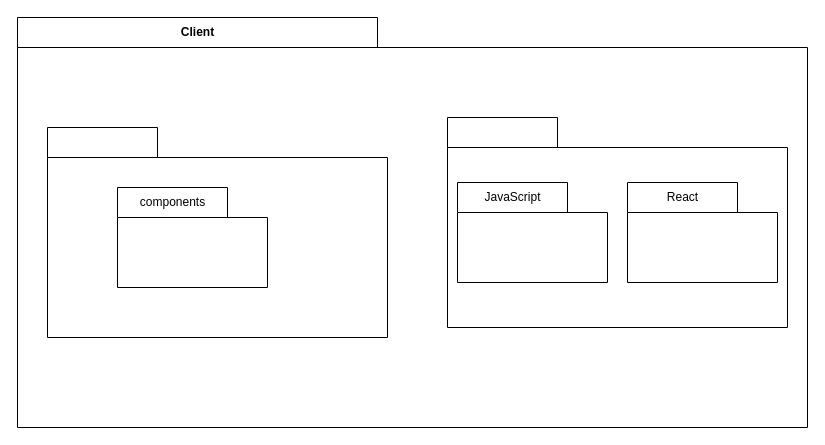
Some shapes in this 825 by 445 pixel diagram are drawn without their labels. The box of each missing label's shape, as (x1, y1, x2, y2) in pixels:
public: (446, 116, 788, 328)
src: (46, 126, 388, 338)
